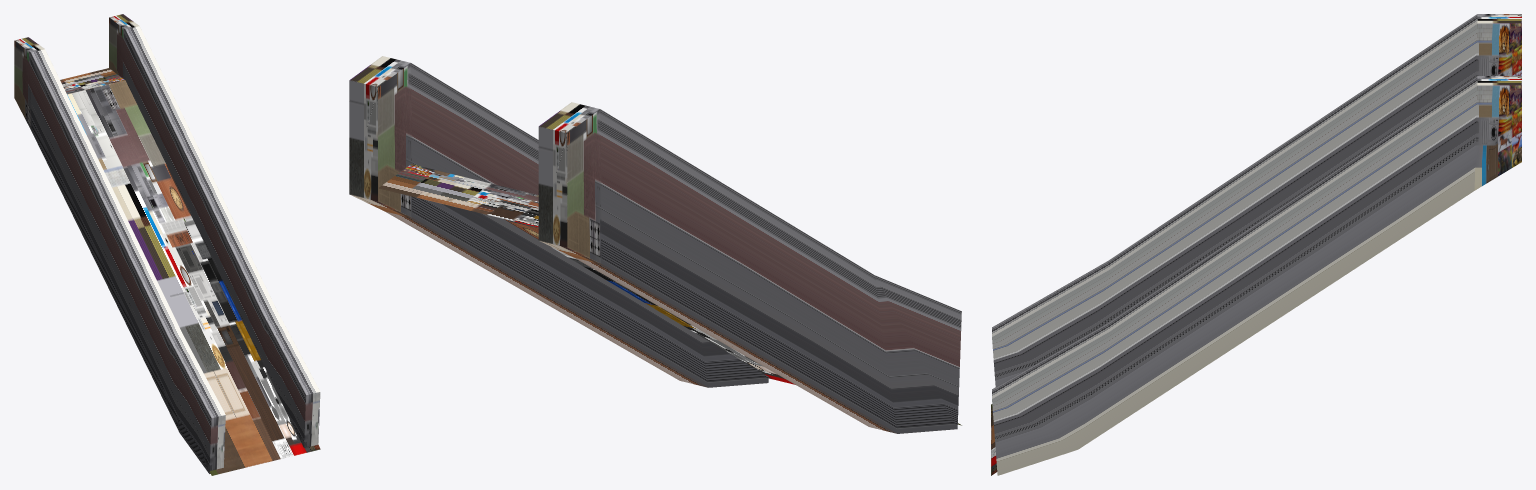
File: Stairs_1big_physics.fbx
The picture shows the model from 3 angles, left to right: view 1: azimuth 30°, elevation 25°; view 2: azimuth 150°, elevation 25°; view 3: azimuth 270°, elevation 25°; orthographic projection. The views are drawn at different scales.
Parts seen in each view (by area): view 1: polySurface1601; view 2: polySurface1601; view 3: polySurface1601.
Part boxes in pixels (bbox=[...]): polySurface1601: bbox=[14, 14, 320, 475]; polySurface1601: bbox=[349, 56, 961, 433]; polySurface1601: bbox=[991, 14, 1521, 475].
Size of the model in its own units: 3.8 by 9.69 by 11.94.
